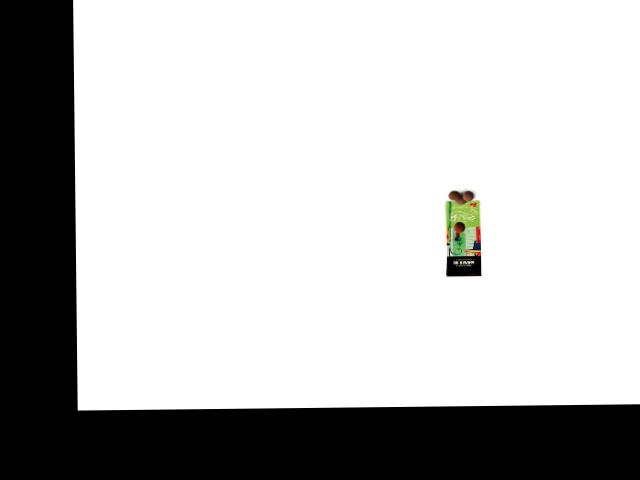chocolate: (437, 199, 486, 279)
